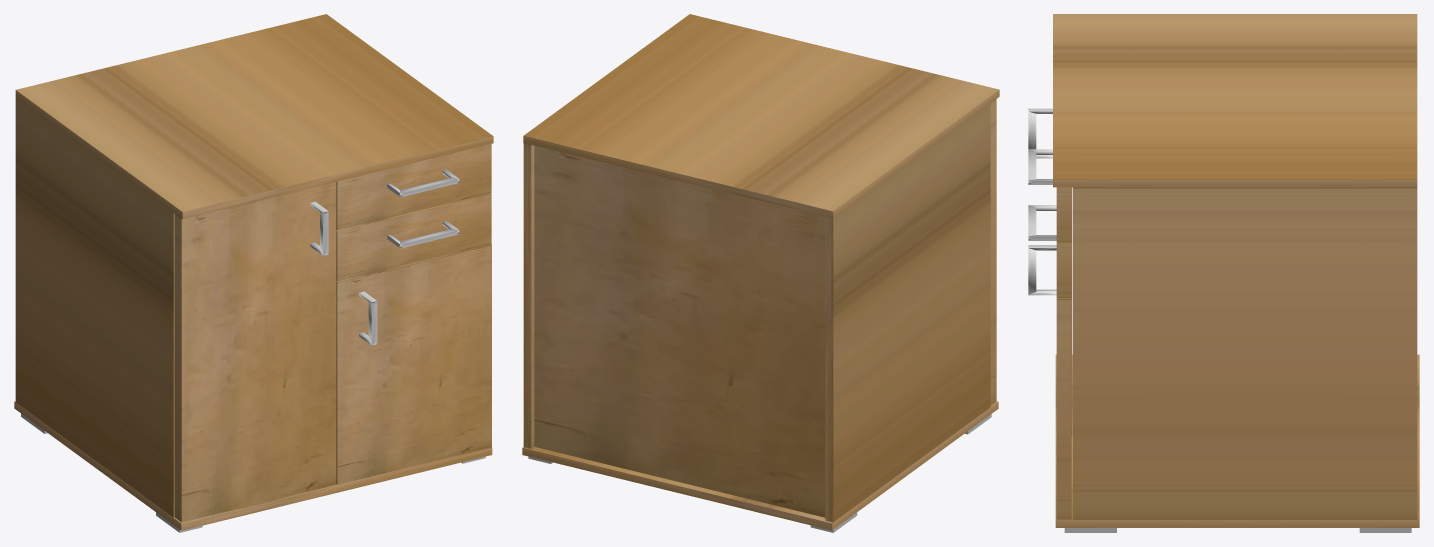
The model's file is sh-contrib-meuble-chaussures.glb.
The picture shows the model from 3 angles, left to right: view 1: azimuth 30°, elevation 25°; view 2: azimuth 150°, elevation 25°; view 3: azimuth 270°, elevation 25°; orthographic projection. The views are drawn at different scales.
Visible parts, largest first — view 1: Cube_1_1, Poignee_9; view 2: Cube_1_1; view 3: Cube_1_1, Poignee_9, Cube_6_10.
Boxes of the visible parts, x1=… form: Cube_1_1: x1=14, y1=14, x2=493, y2=530; Poignee_9: x1=310, y1=169, x2=459, y2=345; Cube_1_1: x1=522, y1=14, x2=999, y2=530; Cube_1_1: x1=1053, y1=14, x2=1419, y2=527; Poignee_9: x1=1028, y1=108, x2=1056, y2=295; Cube_6_10: x1=1064, y1=528, x2=1411, y2=532.
Size of the model in its own units: 1 by 1 by 1.
Materials: 3 (2 with a texture image).
